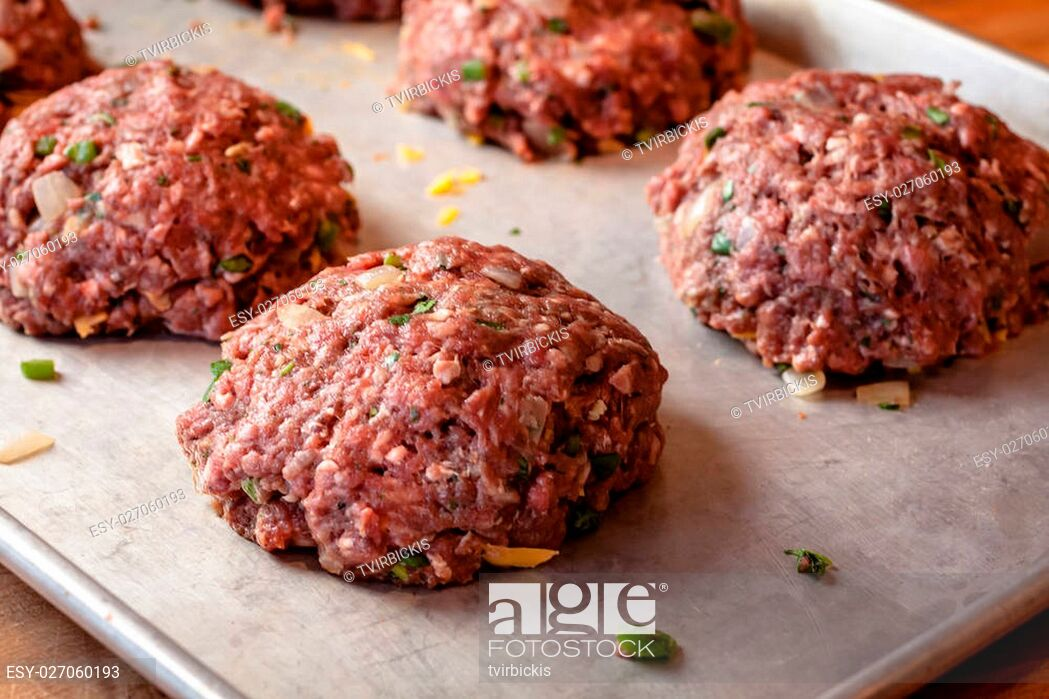ground_beef: (214, 226, 604, 582), (690, 32, 1037, 402), (1, 43, 388, 317), (380, 6, 778, 174)
